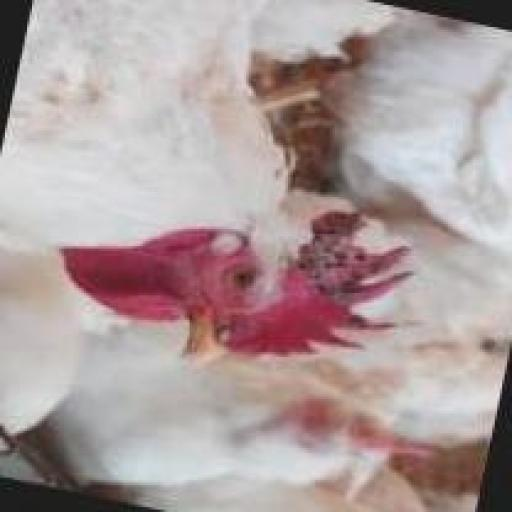disease: (299, 196, 423, 314)
